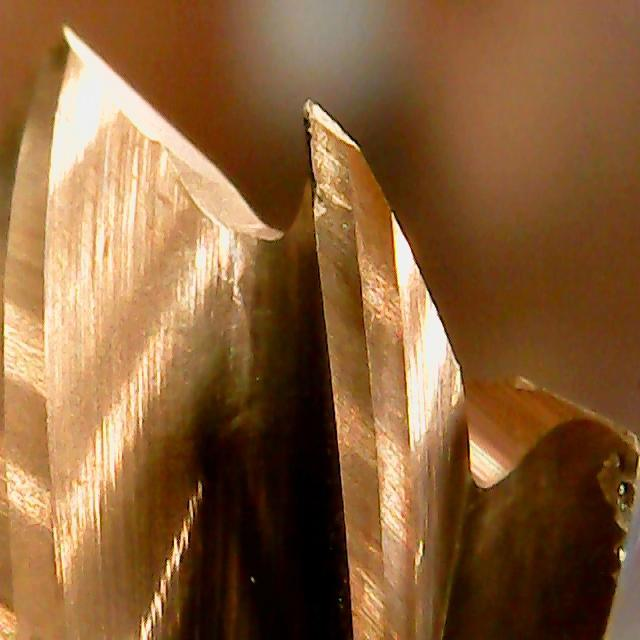Tool-wear-class-1: (285, 95, 416, 404)
